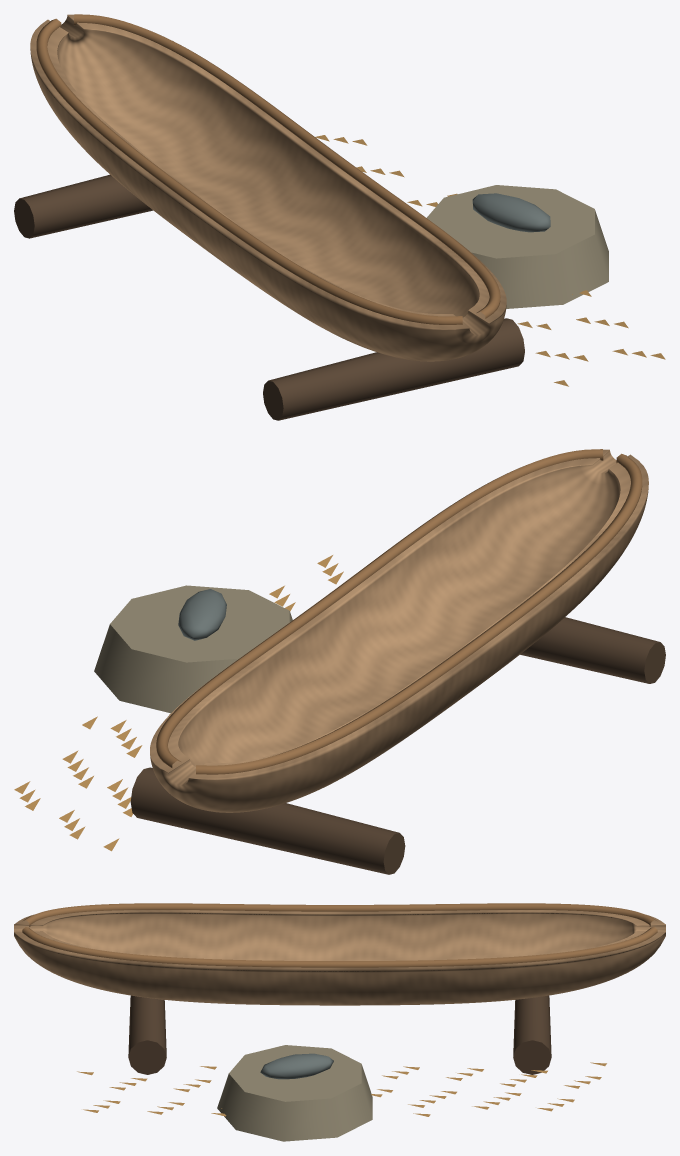
The model's file is workshop.glb.
The picture shows the model from 3 angles, top to bottom: view 1: azimuth 30°, elevation 25°; view 2: azimuth 150°, elevation 25°; view 3: azimuth 270°, elevation 25°; orthographic projection. The views are drawn at different scales.
Visible parts, largest first — view 1: INT_hull, ENV_workstone, INT_rim, ENV_support_b, ENV_support_a, INT_stone, ENV_shavings; view 2: INT_hull, ENV_workstone, INT_rim, ENV_support_a, ENV_support_b, ENV_shavings, INT_stone; view 3: INT_hull, ENV_workstone, INT_rim, ENV_support_b, ENV_support_a, ENV_shavings, INT_stone.
Part boxes in pixels (x1,y1,x2,y2): INT_hull: (30,14,506,361); ENV_workstone: (427,185,608,308); INT_rim: (36,14,500,324); ENV_support_b: (263,318,524,420); ENV_support_a: (14,174,152,238); INT_stone: (472,193,550,232); ENV_shavings: (315,135,665,386); INT_hull: (150,449,648,812); ENV_workstone: (94,585,292,713); INT_rim: (156,449,642,774); ENV_support_a: (130,767,405,874); ENV_support_b: (520,617,665,683); ENV_shavings: (14,555,343,851); INT_stone: (178,589,226,640); INT_hull: (14,910,665,1005); ENV_workstone: (217,1045,372,1141); INT_rim: (22,903,657,967); ENV_support_b: (128,995,166,1074); ENV_support_a: (513,995,551,1074); ENV_shavings: (77,1062,606,1116); INT_stone: (260,1053,333,1079).
Size of what is drawn, in the model's own units: 3.54 by 1.1 by 6.1.
